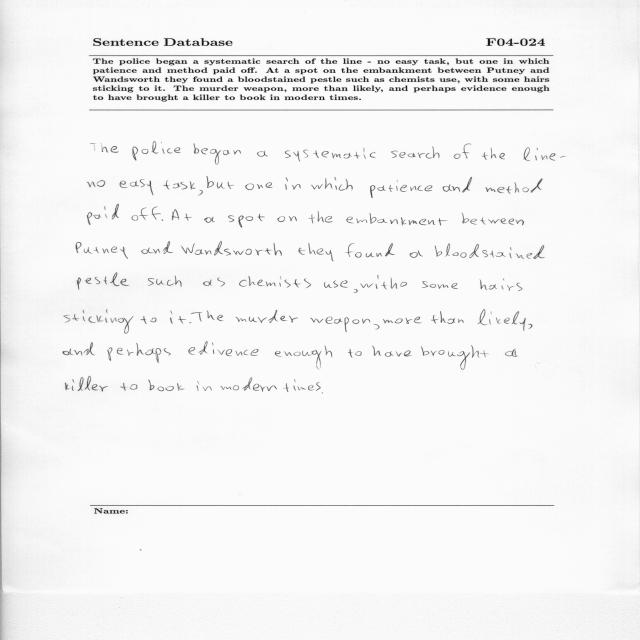word: (435, 243, 544, 259), (421, 345, 489, 370), (64, 310, 133, 334), (181, 241, 282, 256), (275, 346, 332, 370), (347, 213, 448, 226), (107, 343, 171, 363), (285, 148, 375, 162), (370, 180, 432, 198), (478, 309, 526, 331), (193, 144, 241, 165), (132, 141, 181, 161), (189, 342, 259, 356), (485, 178, 543, 194), (311, 317, 371, 332), (76, 242, 128, 259), (77, 273, 129, 290), (239, 276, 311, 288), (220, 377, 277, 392), (462, 213, 524, 226), (236, 310, 298, 323), (345, 243, 395, 258), (65, 376, 108, 392), (87, 204, 119, 225), (361, 275, 407, 289), (299, 243, 334, 261), (391, 147, 440, 159), (311, 177, 353, 191), (120, 179, 154, 196), (480, 279, 523, 292), (228, 214, 265, 228), (523, 147, 556, 161), (442, 177, 472, 192), (132, 207, 164, 221), (63, 342, 95, 356), (148, 380, 185, 392), (372, 346, 412, 357), (431, 311, 464, 324), (141, 241, 173, 254), (283, 379, 314, 392), (148, 275, 181, 287), (206, 176, 234, 189), (191, 311, 223, 322), (163, 181, 196, 190), (481, 148, 505, 160), (309, 211, 333, 223), (422, 281, 458, 289), (91, 143, 119, 153), (454, 143, 471, 159), (383, 317, 421, 324), (245, 182, 273, 190), (285, 177, 301, 190), (170, 311, 186, 324), (203, 278, 225, 287), (324, 280, 348, 288), (196, 381, 212, 391), (140, 316, 157, 324), (121, 383, 138, 391), (348, 349, 362, 358), (277, 216, 297, 222), (88, 181, 105, 188), (410, 250, 423, 258), (505, 349, 518, 357), (172, 209, 179, 220), (257, 151, 268, 157), (204, 217, 215, 223), (184, 214, 192, 221), (316, 382, 321, 391), (374, 324, 380, 329), (198, 190, 203, 195), (529, 324, 533, 329), (354, 289, 358, 293), (560, 156, 566, 158), (190, 322, 192, 323)
